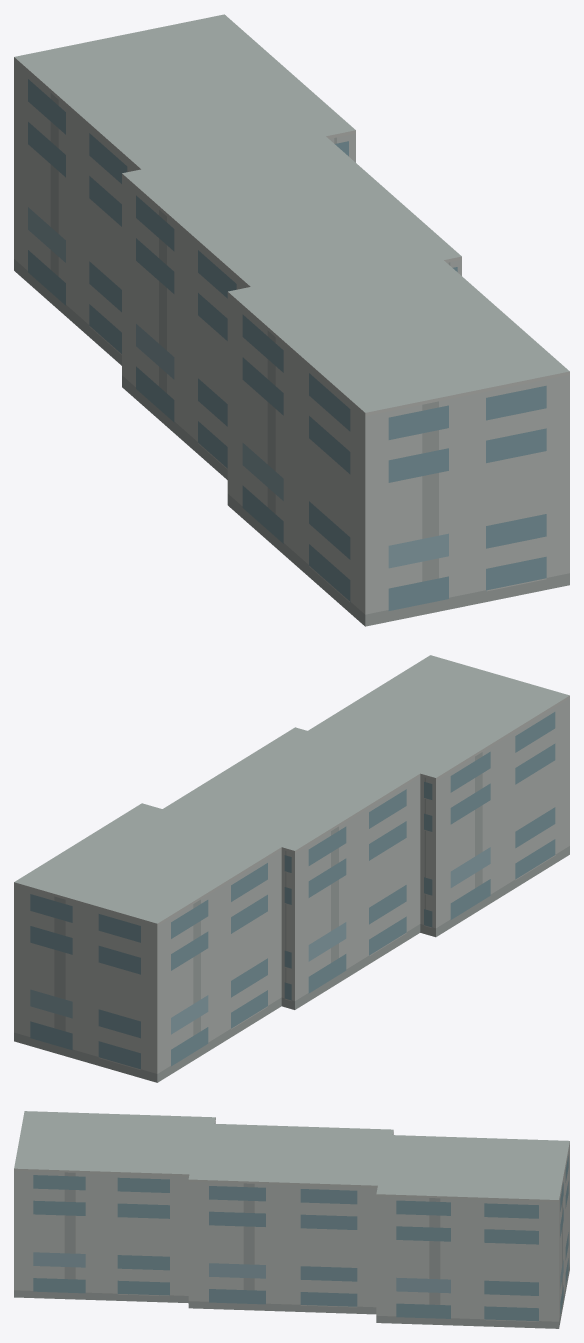
Rendered from residential-6422eb73-b1fa-4120-a6b0-27797c2c781d.glb.
3 views of the same model, one above another, from view 1: azimuth 30°, elevation 25°; view 2: azimuth 150°, elevation 25°; view 3: azimuth 270°, elevation 25° (orthographic). The views are drawn at different scales.
Visible parts, largest first — view 1: residential-6422eb73-b1fa-4120-a6b0-27797c2c781d.tmp; view 2: residential-6422eb73-b1fa-4120-a6b0-27797c2c781d.tmp; view 3: residential-6422eb73-b1fa-4120-a6b0-27797c2c781d.tmp.
Boxes of the visible parts, x1,y1,x2,y2 form: residential-6422eb73-b1fa-4120-a6b0-27797c2c781d.tmp: [14, 14, 569, 626]; residential-6422eb73-b1fa-4120-a6b0-27797c2c781d.tmp: [14, 655, 569, 1082]; residential-6422eb73-b1fa-4120-a6b0-27797c2c781d.tmp: [14, 1111, 569, 1328].
Size of the model in its own units: 22.63 by 15.25 by 59.67.
